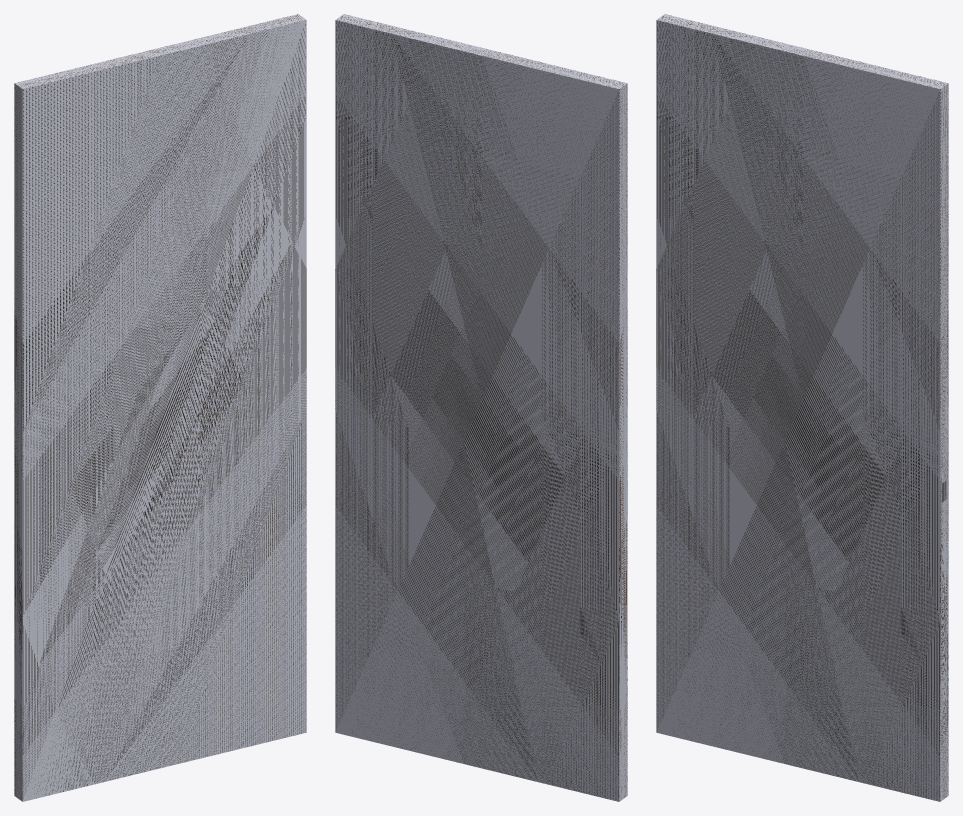
Rendered from board.dae.
3 renders of one model, left to right at view 1: azimuth 30°, elevation 25°; view 2: azimuth 150°, elevation 25°; view 3: azimuth 330°, elevation 25°, orthographic.
Visible parts, largest first — view 1: group_0.084, group_0.086, group_0.085; view 2: group_0.085, group_0.086, group_0.084; view 3: group_0.084, group_0.086, group_0.085.
Boxes of the visible parts, box(x1,y1,x2,y2) form: group_0.084: box(22, 19, 306, 801); group_0.086: box(15, 14, 305, 800); group_0.085: box(14, 14, 298, 795); group_0.085: box(335, 19, 619, 801); group_0.086: box(336, 14, 626, 800); group_0.084: box(343, 14, 627, 795); group_0.084: box(656, 19, 940, 801); group_0.086: box(657, 14, 947, 800); group_0.085: box(664, 14, 948, 795).
Size of the model in its own units: 0.8827 by 0.0445 by 2.12.
Materials: 3 (2 with a texture image).
